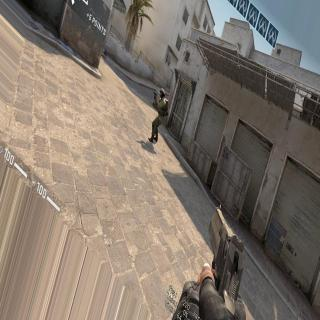CT-Body: (151, 83, 171, 146)
CT-Head: (158, 86, 166, 97)
